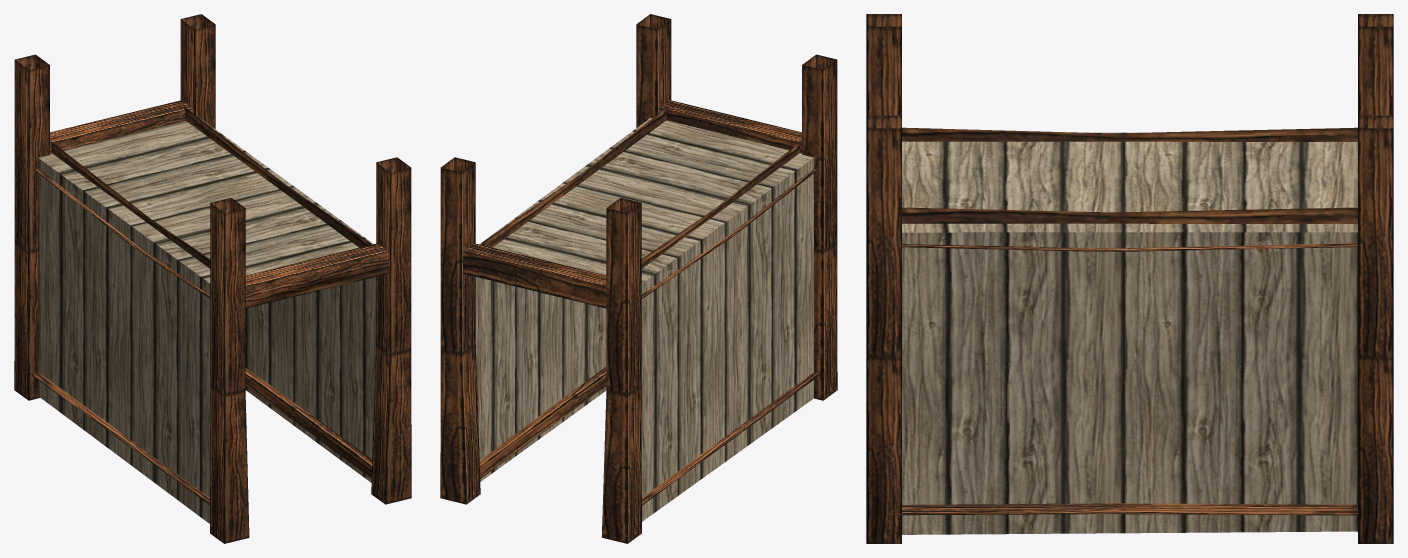
Rendered from LAKETOWN_WAREHOUSE3_PS_WH3_HALLWAT848477__GX.fbx.
The picture shows the model from 3 angles, left to right: view 1: azimuth 30°, elevation 25°; view 2: azimuth 150°, elevation 25°; view 3: azimuth 270°, elevation 25°; orthographic projection. The views are drawn at different scales.
Parts seen in each view (by area): view 1: LAKETOWN_WAREHOUSE3_PS_WH3_HALLWAT848477__GX; view 2: LAKETOWN_WAREHOUSE3_PS_WH3_HALLWAT848477__GX; view 3: LAKETOWN_WAREHOUSE3_PS_WH3_HALLWAT848477__GX.
Part boxes in pixels (x1,y1,x2,y2): LAKETOWN_WAREHOUSE3_PS_WH3_HALLWAT848477__GX: (14,14,411,543); LAKETOWN_WAREHOUSE3_PS_WH3_HALLWAT848477__GX: (440,14,837,543); LAKETOWN_WAREHOUSE3_PS_WH3_HALLWAT848477__GX: (866,14,1393,543).
Bounding box in the file's own units: 30974 × 51639 × 59405.
2 materials, 2 textured.
